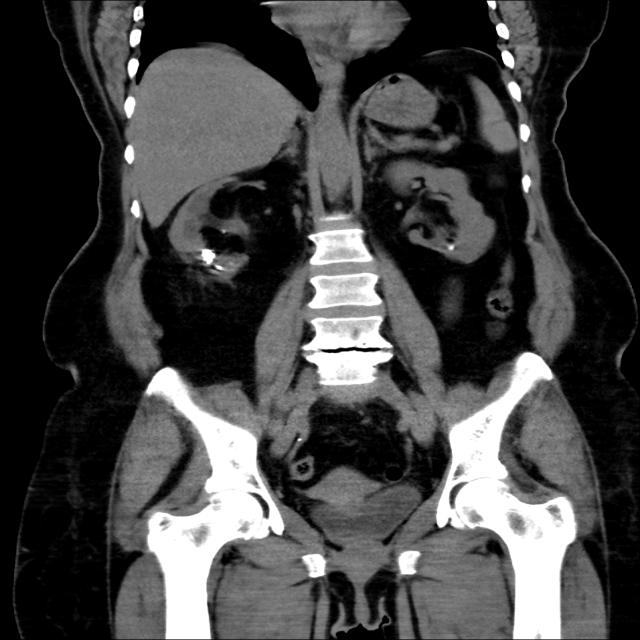kidneystone: (201, 249, 216, 265)
